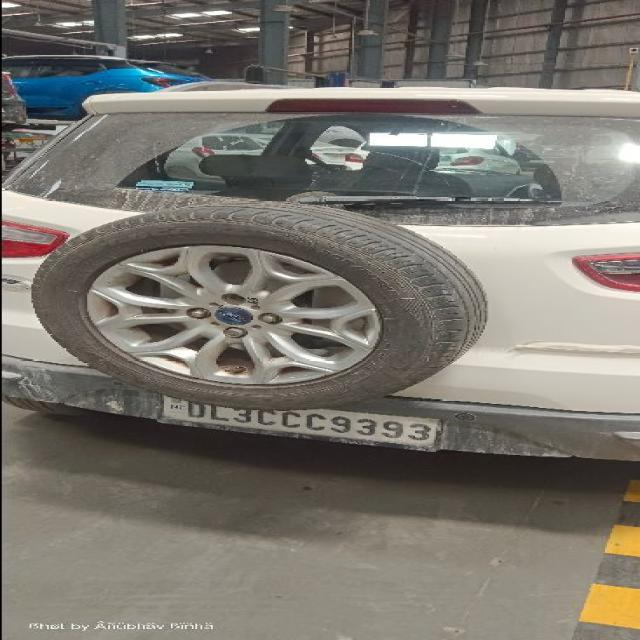license_plate: (157, 394, 445, 450)
